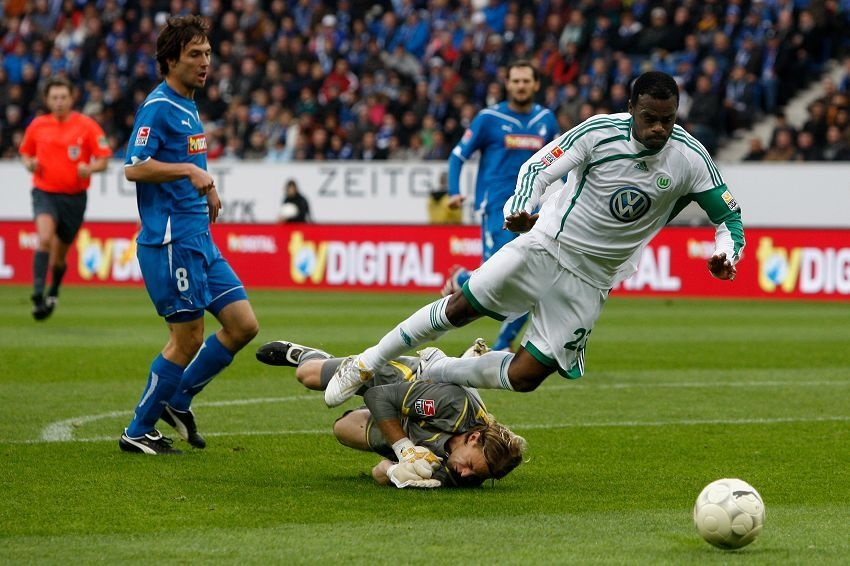falling: (251, 317, 537, 498)
